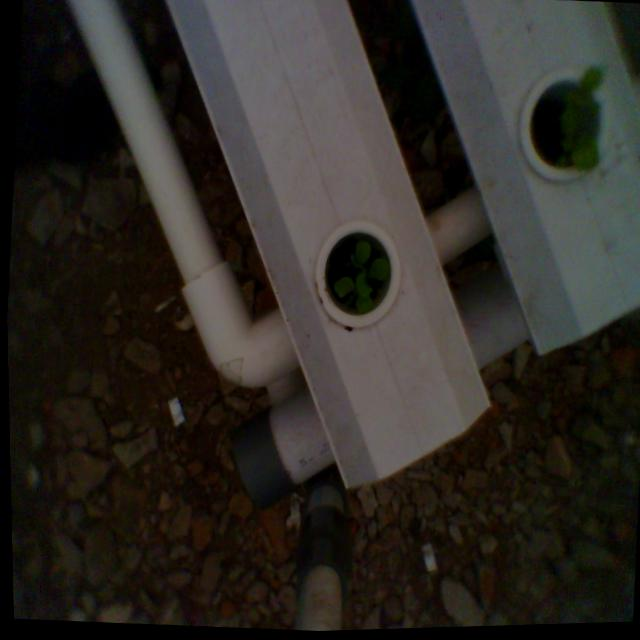FN: (541, 53, 617, 181), (318, 217, 399, 326)
